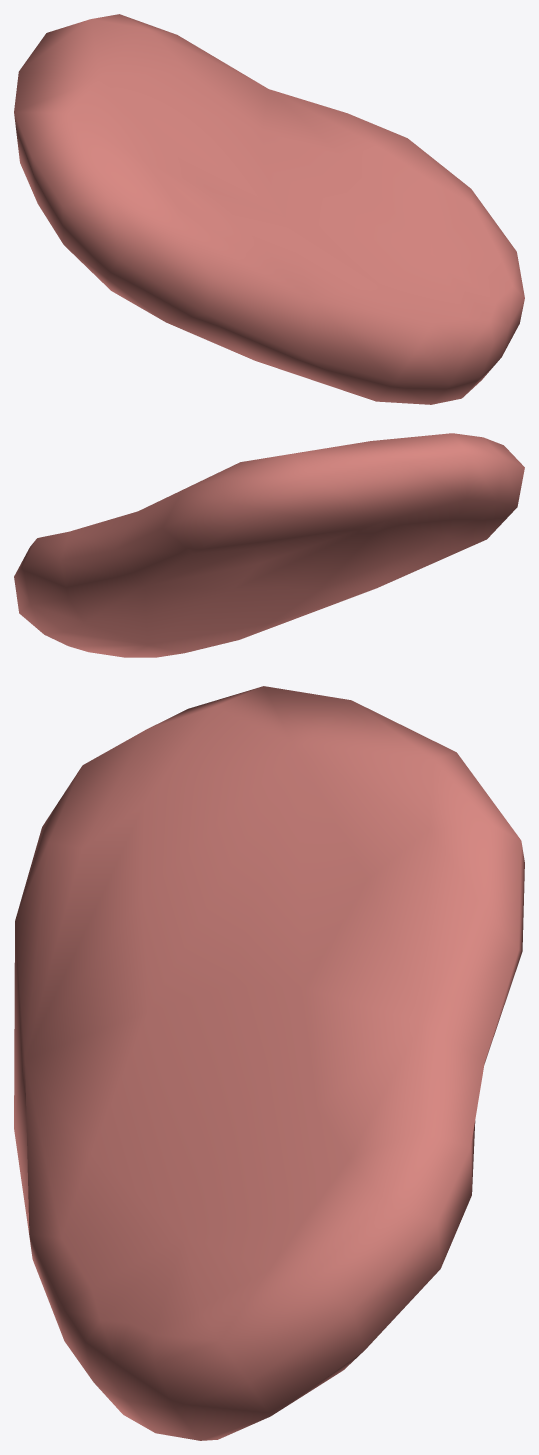
The picture shows the model from 3 angles, top to bottom: view 1: azimuth 30°, elevation 25°; view 2: azimuth 150°, elevation 25°; view 3: azimuth 270°, elevation 25°; orthographic projection. The views are drawn at different scales.
Parts seen in each view (by area): view 1: ZA_598ffed81e66c897; view 2: ZA_598ffed81e66c897; view 3: ZA_598ffed81e66c897.
Part boxes in pixels (<box>): ZA_598ffed81e66c897: <box>14,14,524,404</box>; ZA_598ffed81e66c897: <box>14,433,524,657</box>; ZA_598ffed81e66c897: <box>14,686,524,1440</box>.
Bounding box in the file's own units: 0.00254 × 0.00176 × 0.00165.
